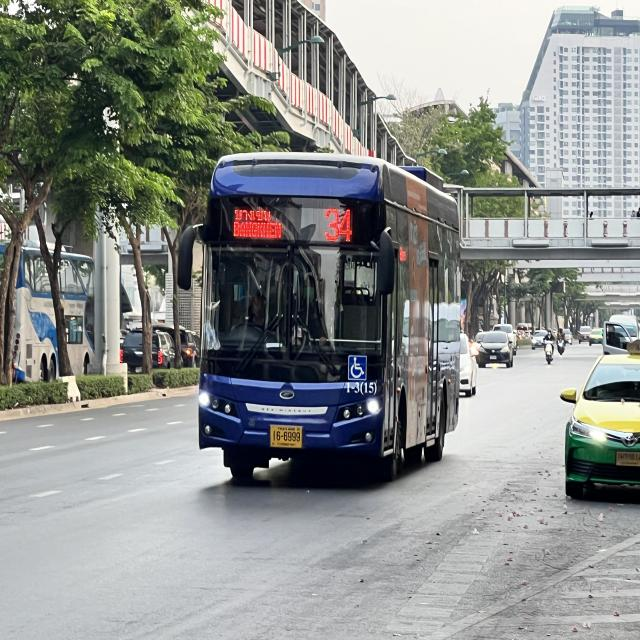Bus-Line-Number: (323, 207, 354, 244)
Destination-Sign-Normal: (231, 206, 284, 242)
TSB-Bus: (174, 142, 466, 489)
